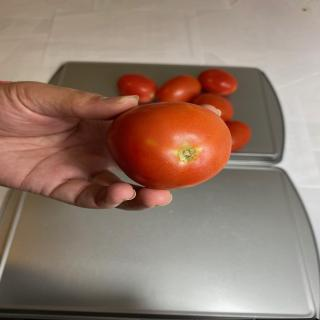Chilli: (105, 101, 232, 190)
Tomato: (156, 74, 202, 102), (192, 93, 234, 122), (117, 73, 157, 103), (198, 68, 238, 96), (225, 120, 251, 152)
